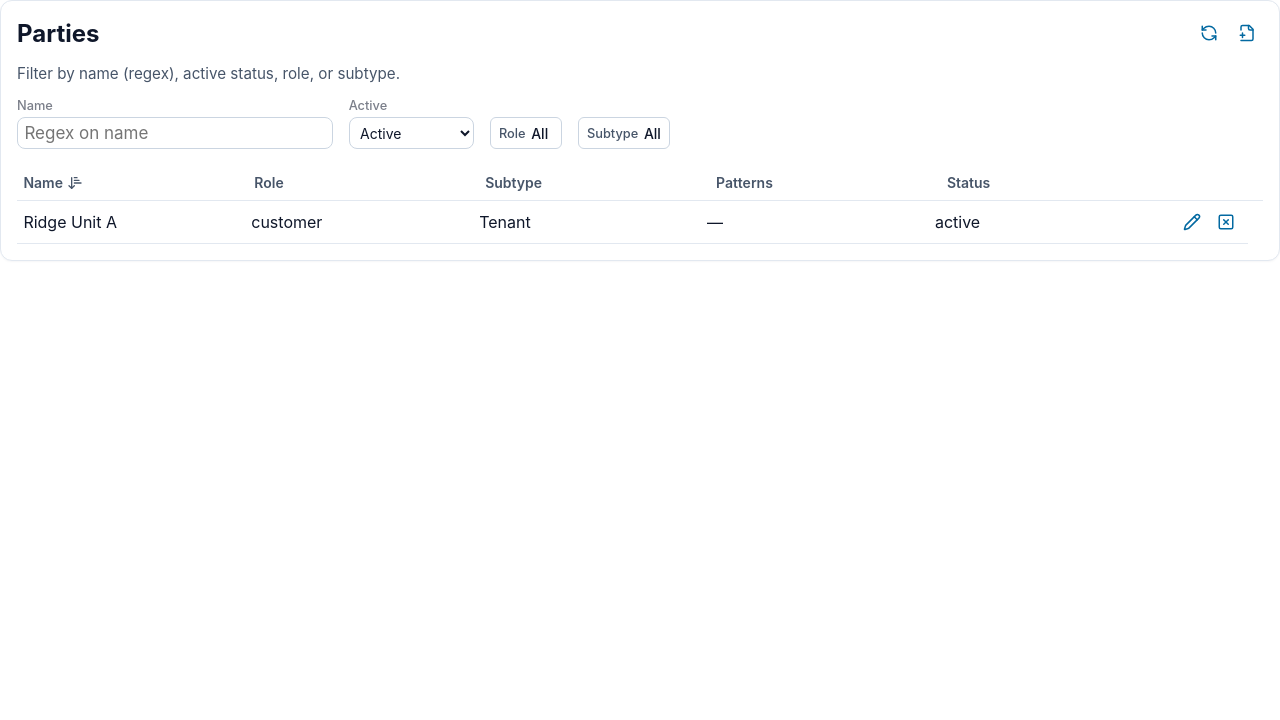
Test: PartiesSection › subtype ghost uses subtypes from register rows when suggestions API is empty
The image size is (1280, 720).
Click the button named "new party" at (1247, 33), box [1231,17,1263,49]
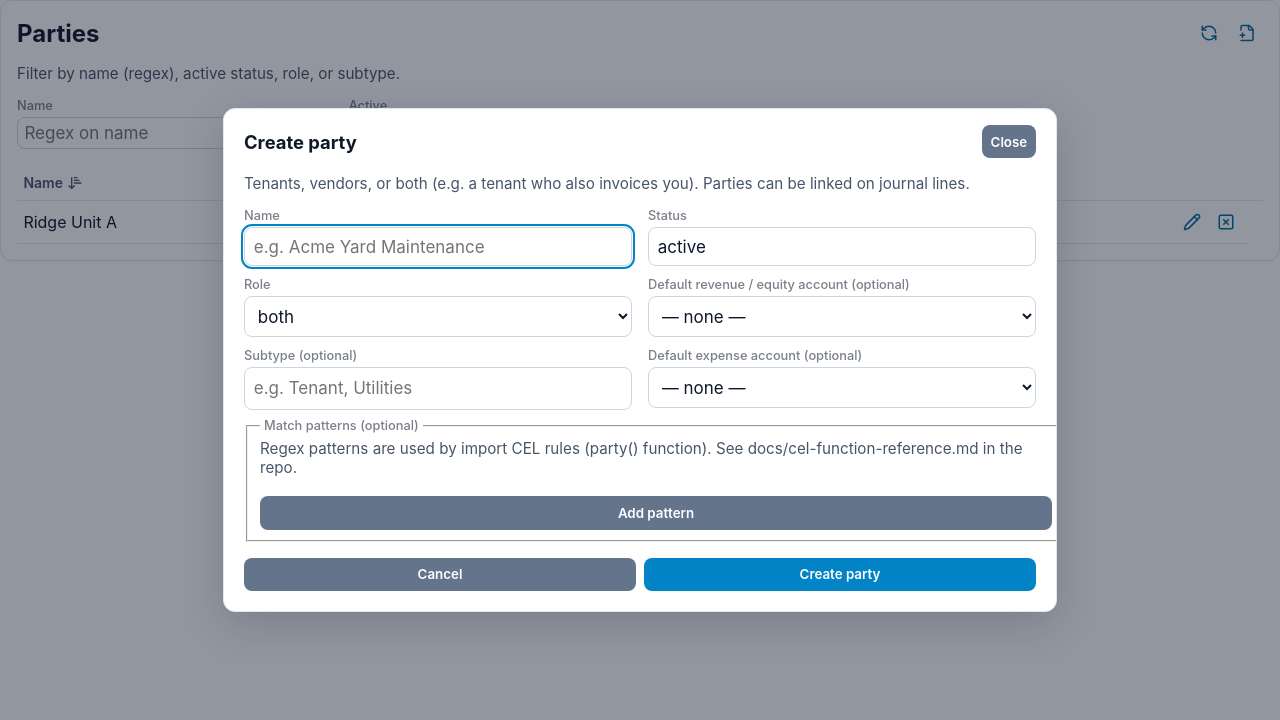
Type "Te" into the field named "Party subtype" at (438, 388), box [244,367,632,410]
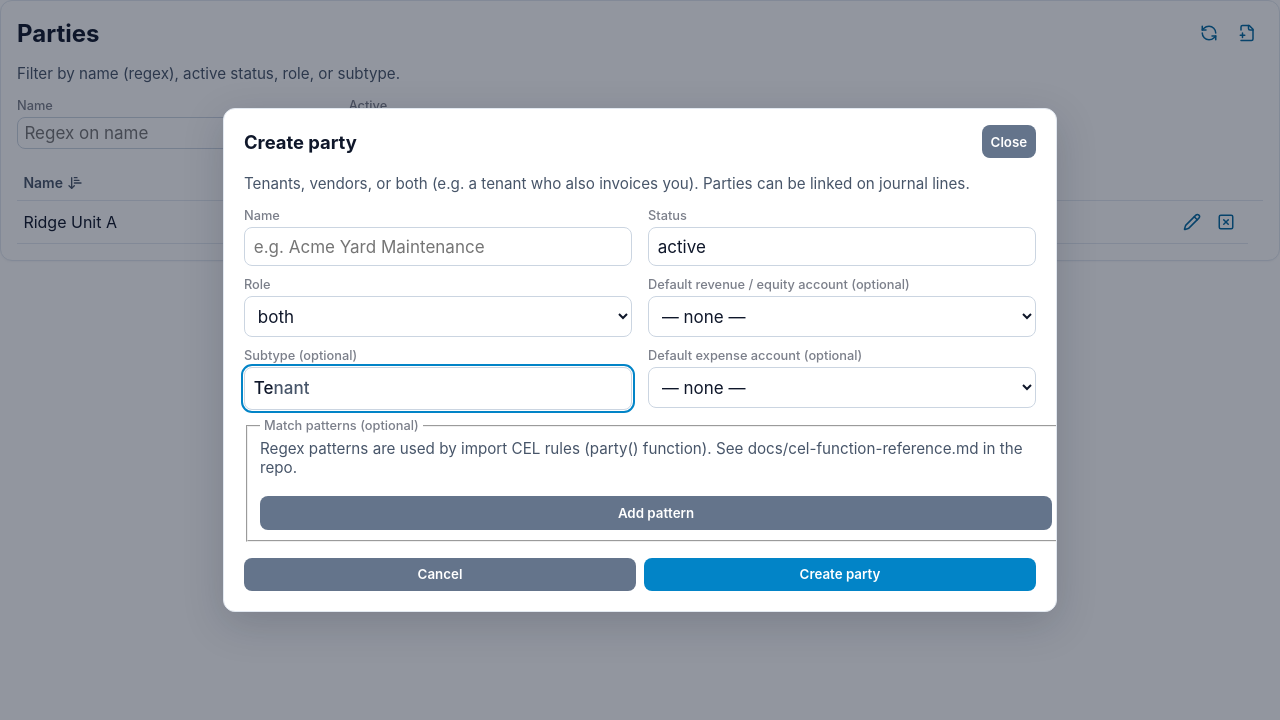
Expected: the text with class "subtype-ghost-suffix" reads "nant", [274,378,310,398]
